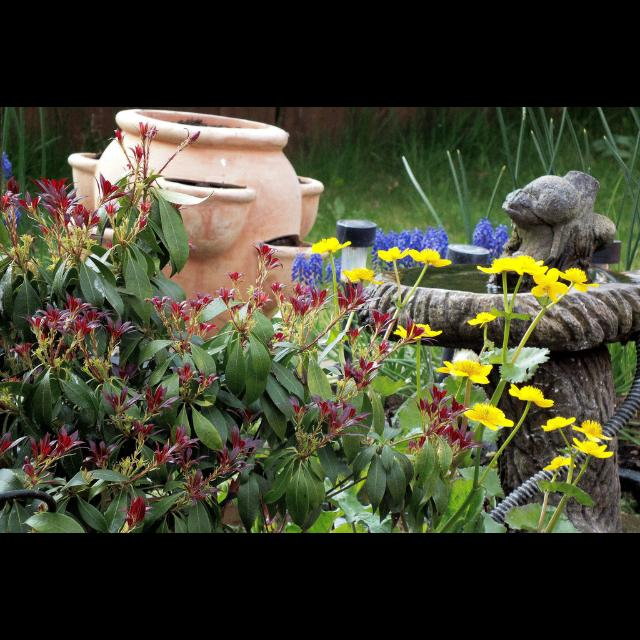Flower: (368, 227, 448, 273), (463, 402, 513, 434), (434, 359, 491, 387), (506, 380, 552, 410), (552, 266, 600, 292), (528, 270, 572, 298), (568, 419, 614, 443), (392, 322, 442, 342), (302, 238, 350, 258), (411, 246, 452, 268), (488, 224, 510, 264), (574, 438, 614, 460), (340, 266, 380, 286), (540, 453, 578, 472), (474, 256, 522, 270), (377, 246, 409, 264), (514, 255, 546, 273), (540, 418, 576, 434), (1, 204, 23, 230), (468, 312, 498, 328), (308, 252, 322, 284), (324, 261, 342, 285), (472, 221, 490, 245), (292, 252, 308, 278), (0, 150, 12, 180)
